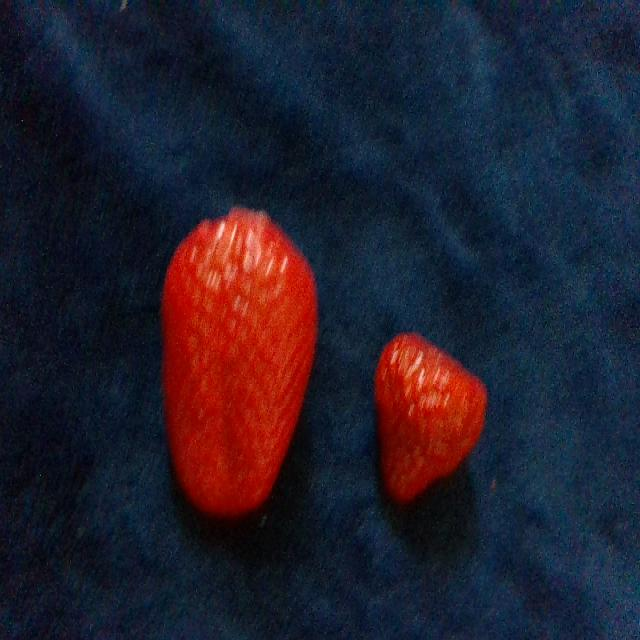chica_roja: (375, 336, 485, 501)
grande_roja: (163, 208, 317, 515)
